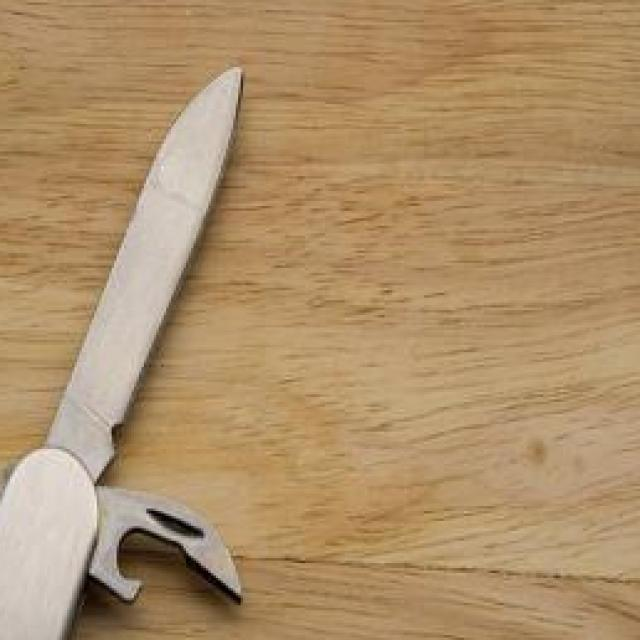knife: (1, 59, 246, 640)
